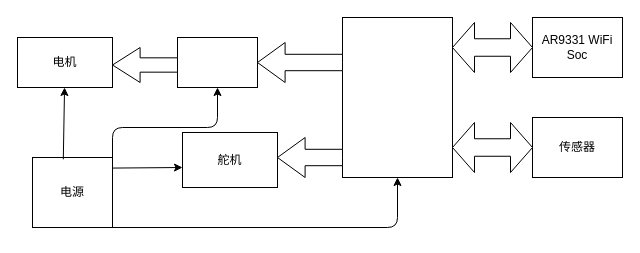
Image size: 640x253. Some labels were removed from this diagram. Here are the shapes that lost their labels. From the top down, the centre of each, then its label:
At point (217, 62): "驱动电路".
At point (397, 97): "STM32处理器".
